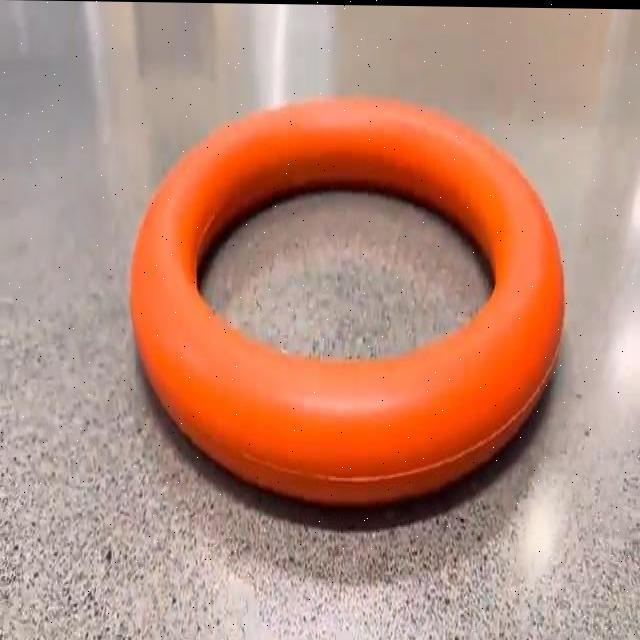note: (132, 96, 564, 506)
